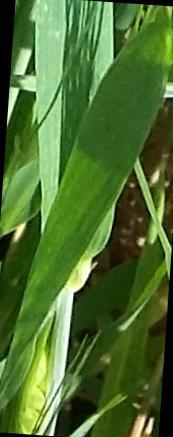Wheat: (4, 20, 173, 387)
